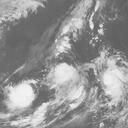cyclone: (48, 63, 80, 92), (102, 63, 127, 96), (6, 83, 34, 109)
